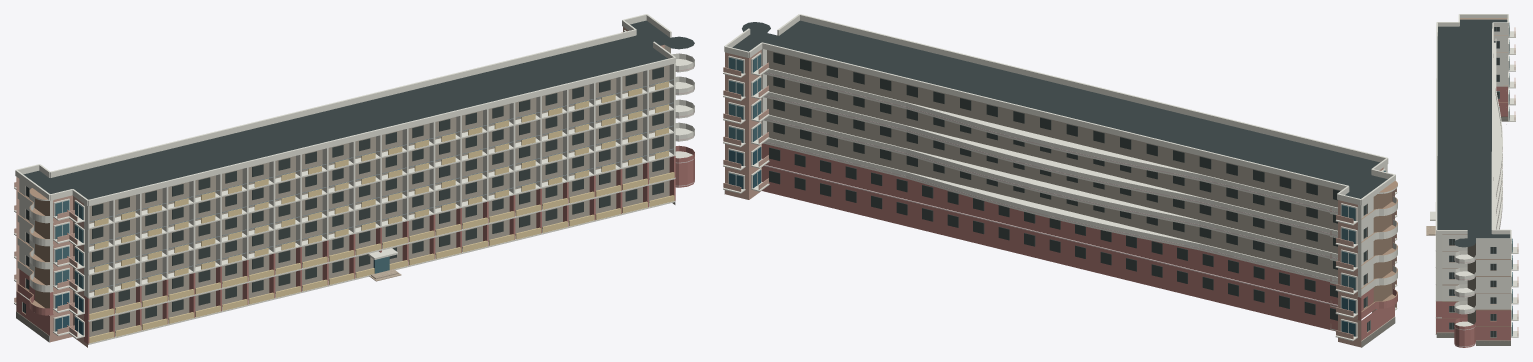
Rendered from chunk-dorm-way-759147082.glb.
3 views of the same model, side by side, from view 1: azimuth 30°, elevation 25°; view 2: azimuth 150°, elevation 25°; view 3: azimuth 270°, elevation 25° (orthographic). The views are drawn at different scales.
Visible parts, largest first — view 1: chunk-dorm-way-759147082; view 2: chunk-dorm-way-759147082; view 3: chunk-dorm-way-759147082.
Part boxes in pixels (x1,y1,x2,y2): chunk-dorm-way-759147082: [14, 14, 694, 347]; chunk-dorm-way-759147082: [723, 14, 1397, 347]; chunk-dorm-way-759147082: [1426, 14, 1518, 347].
Bounding box in the file's own units: 97.99 × 21.15 × 16.51.
Materials: 16 (1 with a texture image).
